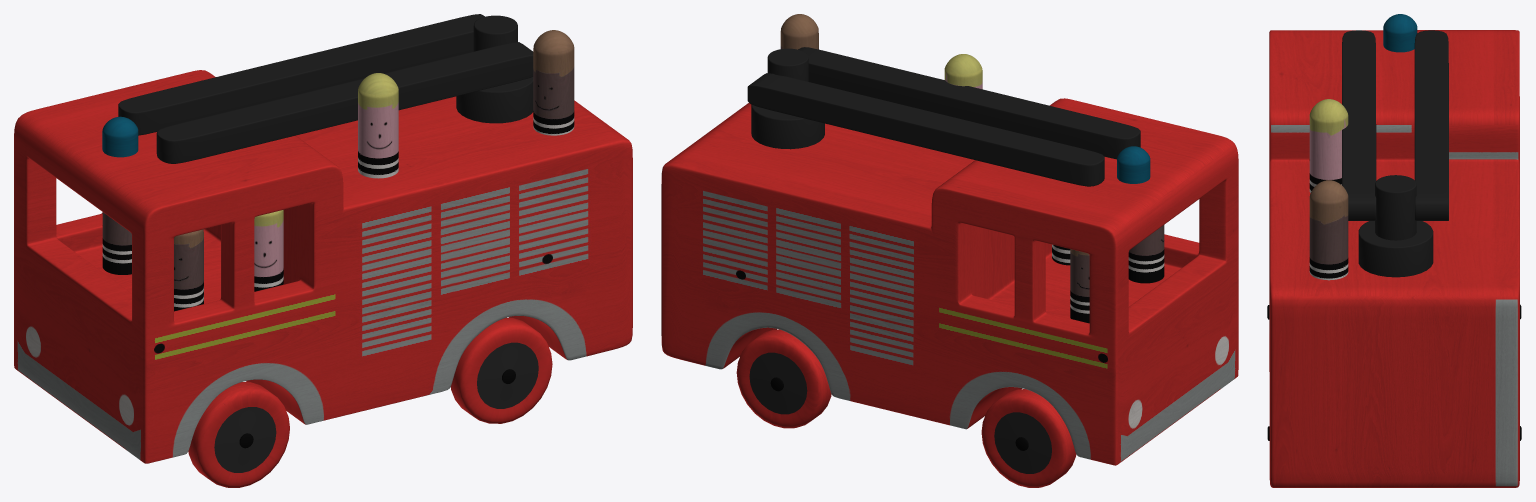
Rendered from 002_vray_reab.fbx.
3 renders of one model, left to right at view 1: azimuth 30°, elevation 25°; view 2: azimuth 150°, elevation 25°; view 3: azimuth 270°, elevation 25°, orthographic. The views are drawn at different scales.
Parts seen in each view (by area): view 1: archmodels69_002_02, archmodels69_002_01, archmodels69_002_06, archmodels69_002_05; view 2: archmodels69_002_02, archmodels69_002_01, archmodels69_002_06, archmodels69_002_05; view 3: archmodels69_002_02, archmodels69_002_01.
Part boxes in pixels (x1,y1,x2,y2): archmodels69_002_02: (14, 30, 632, 463); archmodels69_002_01: (118, 14, 533, 163); archmodels69_002_06: (188, 317, 552, 487); archmodels69_002_05: (214, 342, 538, 472); archmodels69_002_02: (661, 14, 1238, 465); archmodels69_002_01: (747, 47, 1140, 186); archmodels69_002_06: (736, 329, 1076, 487); archmodels69_002_05: (749, 352, 1051, 473); archmodels69_002_02: (1267, 14, 1521, 487); archmodels69_002_01: (1342, 30, 1448, 277).
Bounding box in the file's own units: 15.95 × 10.94 × 7.57.
